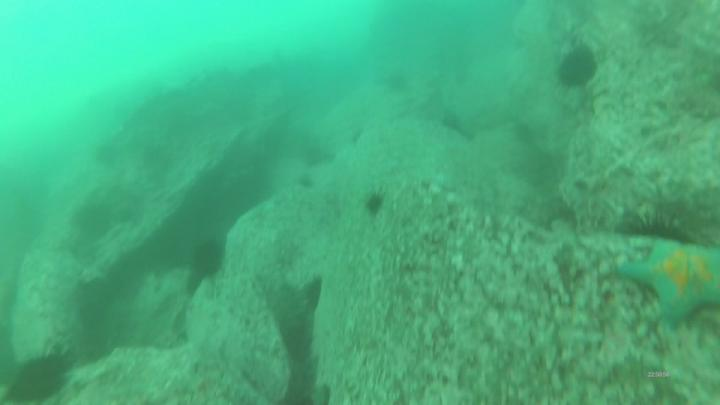echinus: (4, 350, 71, 405), (618, 207, 699, 247), (553, 45, 603, 95), (189, 239, 228, 278), (78, 201, 115, 239), (282, 325, 317, 365), (300, 276, 327, 311), (92, 141, 121, 169), (302, 143, 326, 169), (386, 71, 410, 97), (363, 191, 385, 219), (296, 175, 319, 192)
starfish: (621, 234, 720, 331)
